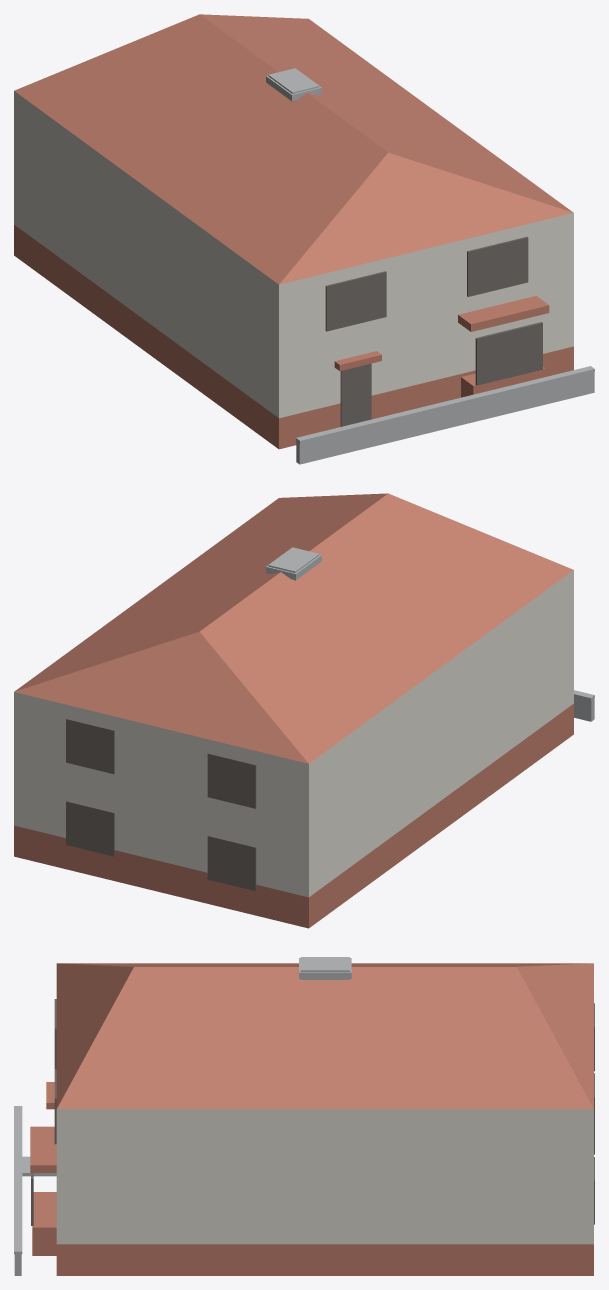
The model's file is terrace_a1.glb.
The picture shows the model from 3 angles, top to bottom: view 1: azimuth 30°, elevation 25°; view 2: azimuth 150°, elevation 25°; view 3: azimuth 270°, elevation 25°; orthographic projection.
Visible parts, largest first — view 1: terrace_a1; view 2: terrace_a1; view 3: terrace_a1.
Part boxes in pixels (left/top/right/bottom): terrace_a1: left=14, top=14, right=594, bottom=464; terrace_a1: left=14, top=493, right=594, bottom=928; terrace_a1: left=14, top=957, right=594, bottom=1275.
Bounding box in the file's own units: 9.8 × 7.5 × 16.5.
